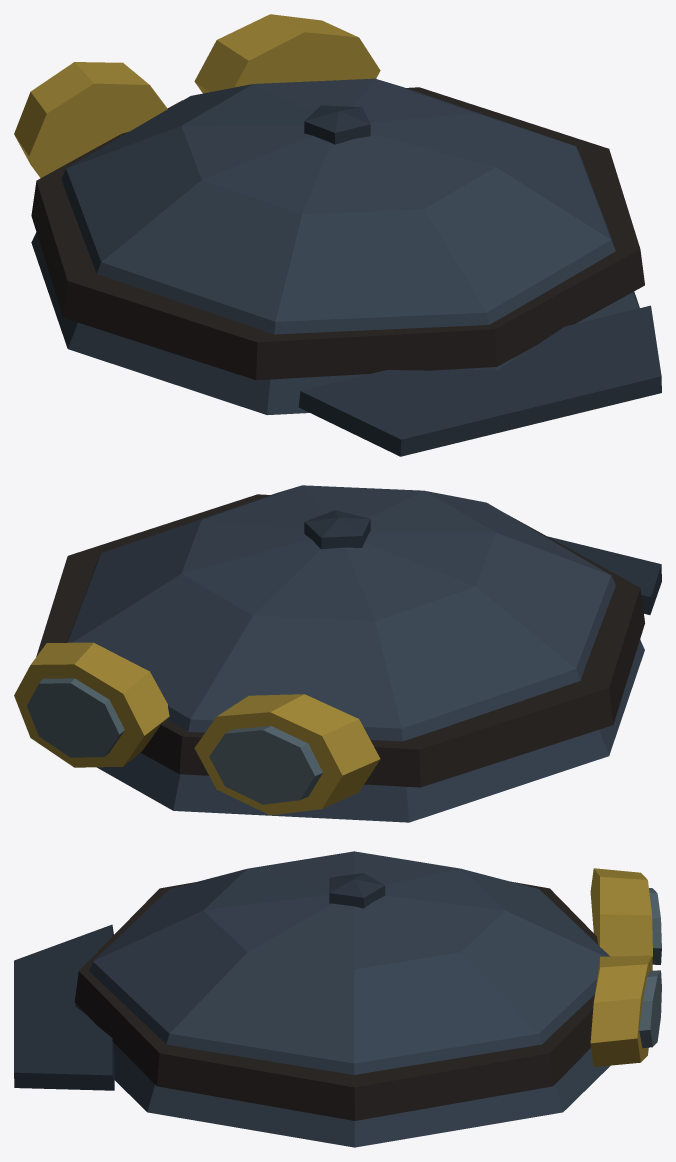
File: hat_mechanic.glb
The picture shows the model from 3 angles, top to bottom: view 1: azimuth 30°, elevation 25°; view 2: azimuth 150°, elevation 25°; view 3: azimuth 270°, elevation 25°; orthographic projection. The views are drawn at different scales.
Parts seen in each view (by area): view 1: Hat; view 2: Hat; view 3: Hat.
Part boxes in pixels (left/top/right/bottom): Hat: left=14, top=14, right=661, bottom=456; Hat: left=14, top=485, right=661, bottom=822; Hat: left=14, top=851, right=661, bottom=1147.
Size of the model in its own units: 0.4014 by 0.1205 by 0.4638.
